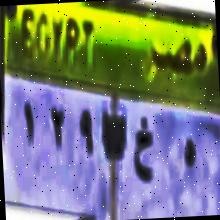1: (20, 97, 38, 153)
2: (46, 97, 69, 163)
9: (76, 105, 96, 164)
haa: (174, 123, 200, 184)
khaa: (130, 108, 157, 188)
